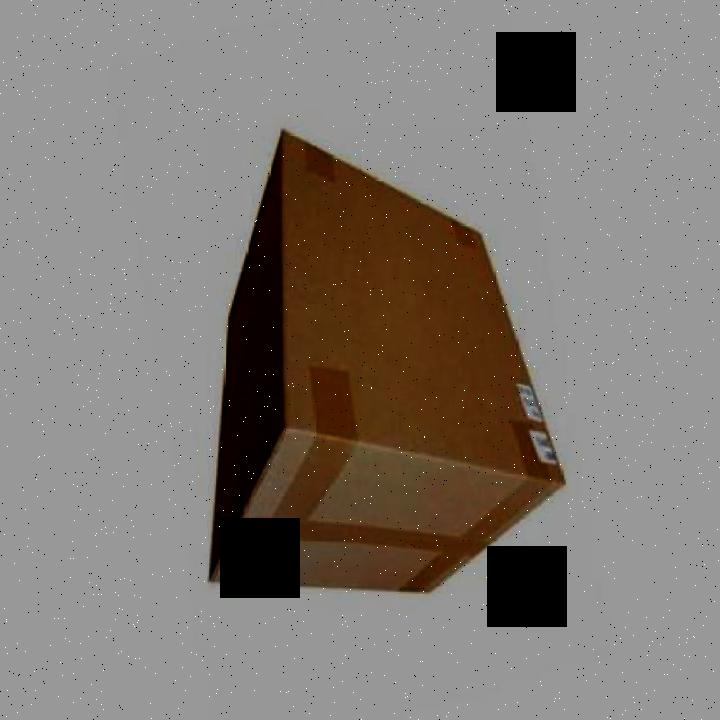box: (206, 126, 568, 594)
